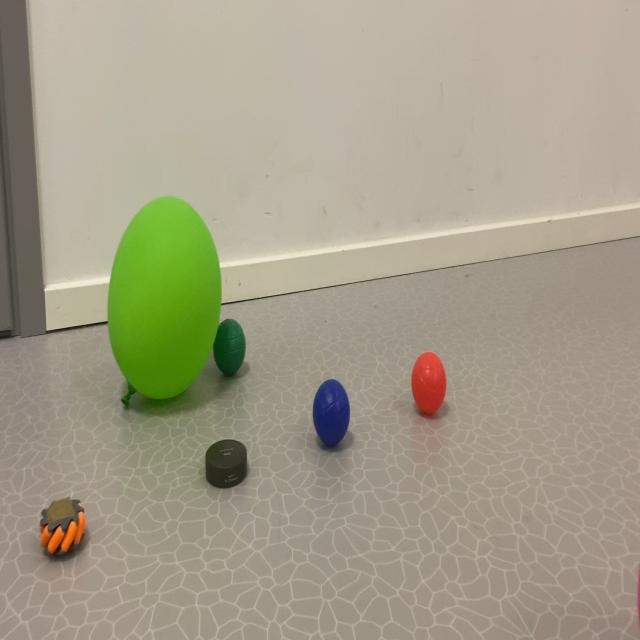7: (384, 317, 480, 488)
green ball: (300, 351, 365, 488)
red ball: (206, 307, 262, 411)
